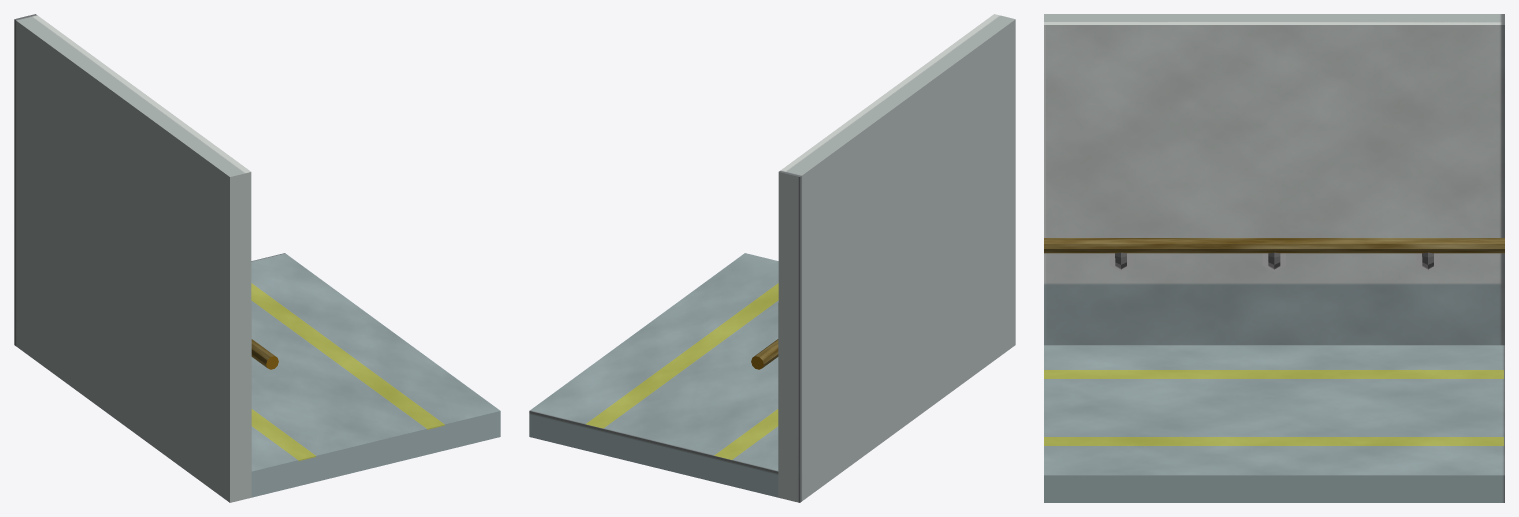
The model's file is Corridor.fbx.
3 renders of one model, left to right at view 1: azimuth 30°, elevation 25°; view 2: azimuth 150°, elevation 25°; view 3: azimuth 270°, elevation 25°, orthographic. The views are drawn at different scales.
Parts seen in each view (by area): view 1: pCylinder9; view 2: pCylinder9; view 3: pCylinder9.
Boxes of the visible parts, left/top/right/bottom form: pCylinder9: left=14, top=14, right=500, bottom=502; pCylinder9: left=529, top=14, right=1015, bottom=502; pCylinder9: left=1044, top=14, right=1504, bottom=502.
Bounding box in the file's own units: 43.46 × 50 × 60.
Materials: 1 (1 with a texture image).
